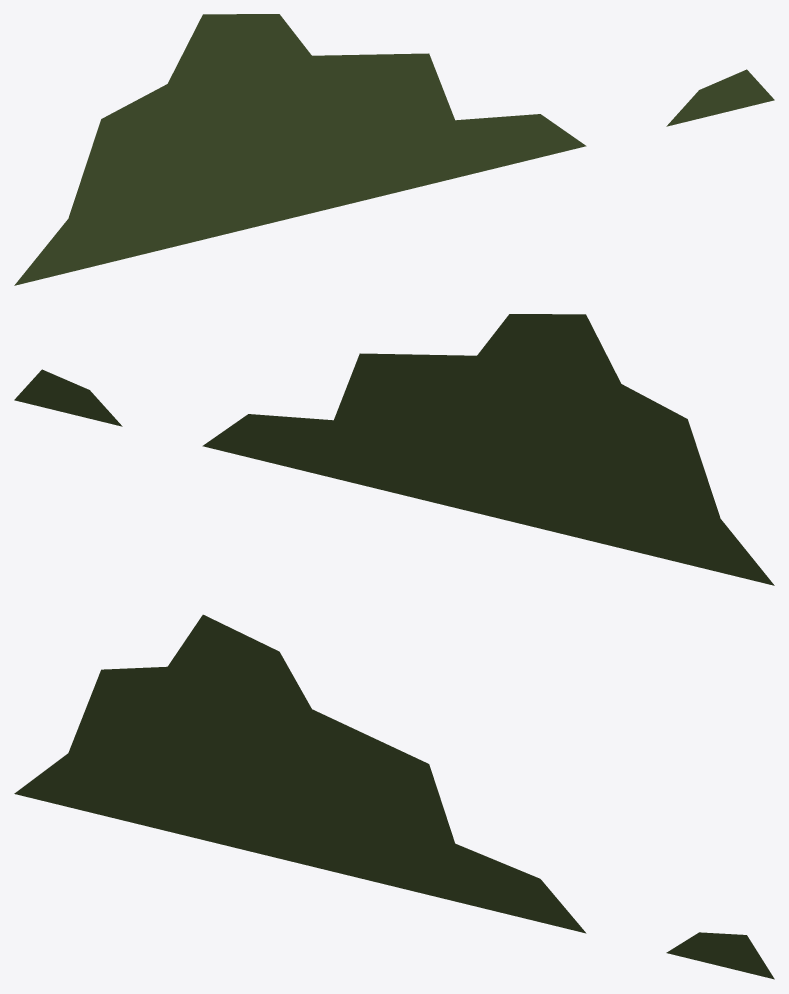
Rendered from SM_Env_Background_Island_05.glb.
3 views of the same model, one above another, from view 1: azimuth 30°, elevation 25°; view 2: azimuth 150°, elevation 25°; view 3: azimuth 330°, elevation 25° (orthographic).
Visible parts, largest first — view 1: SM_Env_Background_Island_05; view 2: SM_Env_Background_Island_05; view 3: SM_Env_Background_Island_05.
Part boxes in pixels (x1=…): SM_Env_Background_Island_05: x1=14, y1=14, x2=774, y2=285; SM_Env_Background_Island_05: x1=14, y1=314, x2=774, y2=585; SM_Env_Background_Island_05: x1=14, y1=614, x2=774, y2=979.
Size of the model in its own units: 0.3607 by 0.1022 by 2.27e-17.
